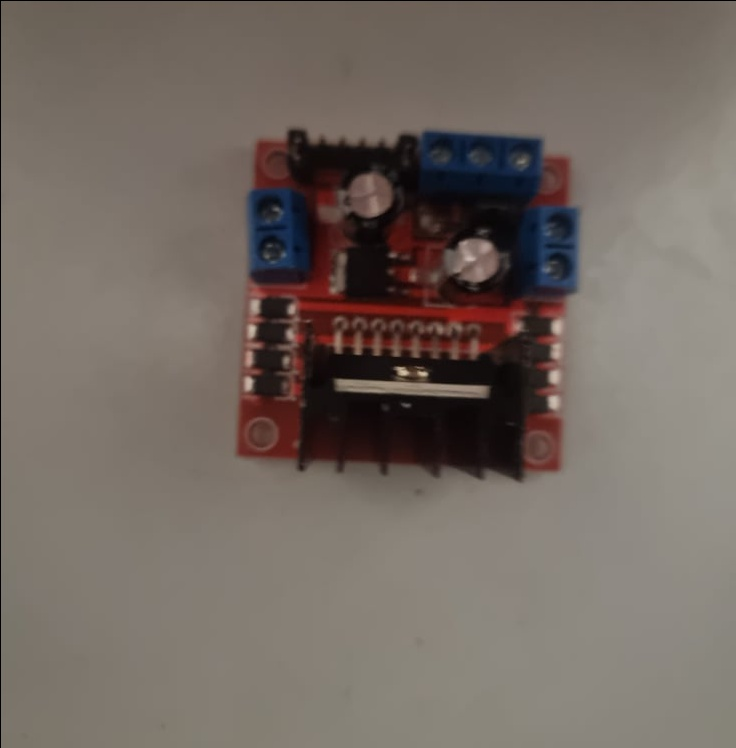MOTOR: (234, 124, 586, 482)
